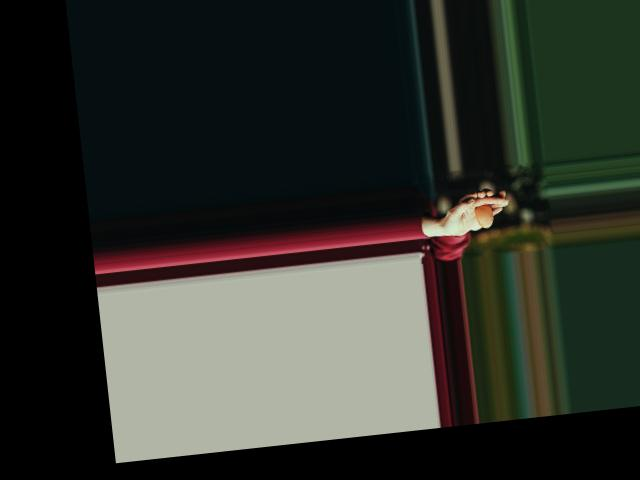egg: (474, 204, 493, 228)
